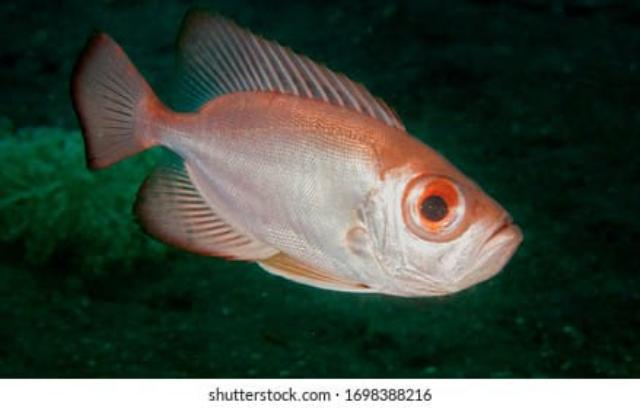Mulut: (472, 204, 534, 278)
Sirip Anal: (128, 150, 278, 268)
Sirip Ekor: (64, 20, 154, 174)
Sirip Perut: (258, 240, 366, 300)
Sirip Punggung: (168, 11, 410, 133)
